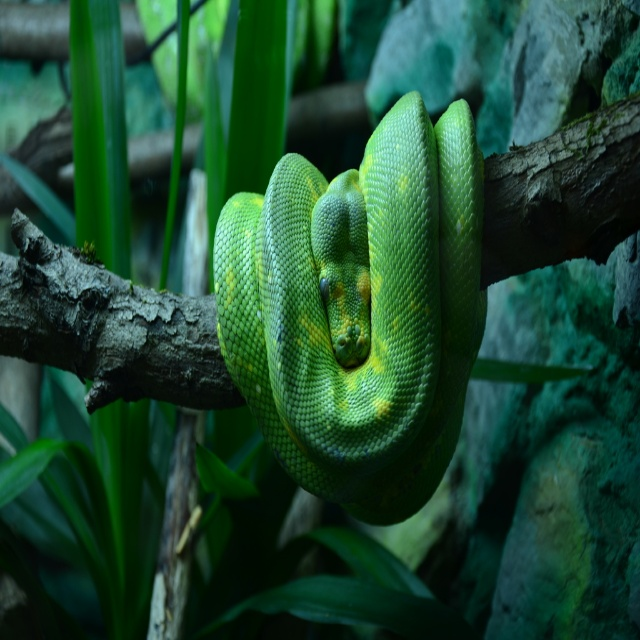Snake: (211, 89, 492, 527)
